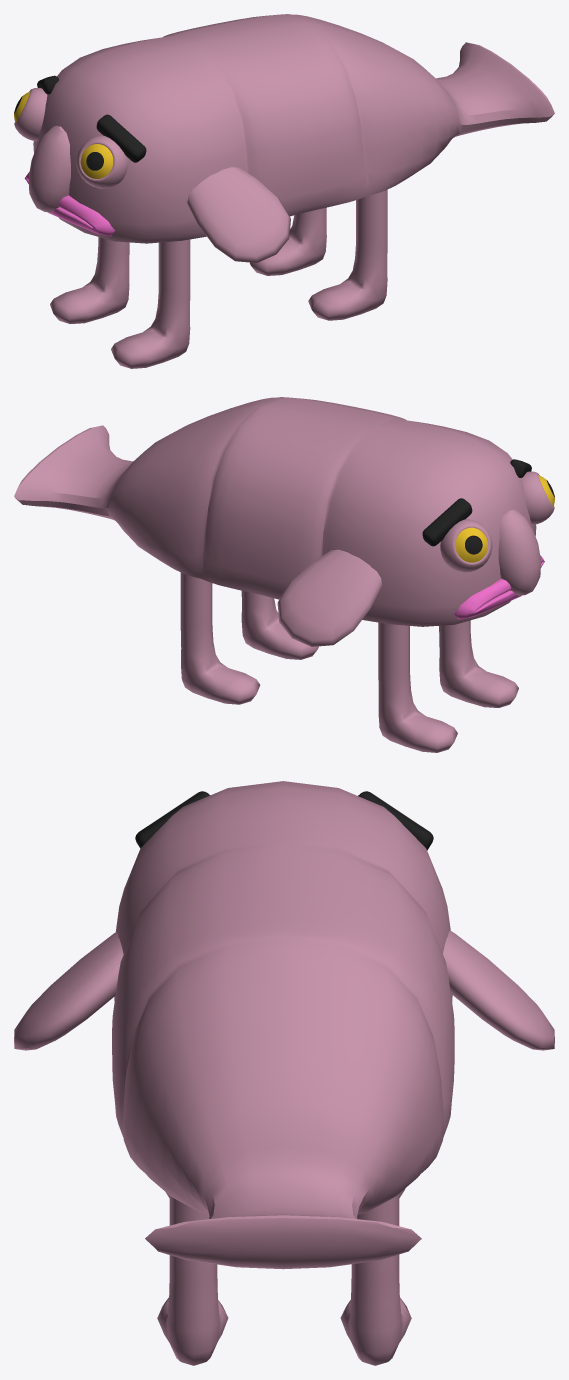
The model's file is Bolha.fbx.
3 views of the same model, one above another, from view 1: azimuth 30°, elevation 25°; view 2: azimuth 150°, elevation 25°; view 3: azimuth 270°, elevation 25° (orthographic). The views are drawn at different scales.
Parts seen in each view (by area): view 1: bolha, pernas_bolha, pernas2_bolha, barbatana_bolha, olhos_bolha, nariz, sobrancelha_bolha, boca.002; view 2: bolha, pernas_bolha, pernas2_bolha, barbatana_bolha, olhos_bolha, nariz, sobrancelha_bolha, boca.002; view 3: bolha, pernas2_bolha, barbatana_bolha, sobrancelha_bolha.
Part boxes in pixels (x1,y1,x2,y2): bolha: (33, 14, 554, 243); pernas_bolha: (50, 237, 190, 368); pernas2_bolha: (250, 189, 387, 320); barbatana_bolha: (187, 167, 290, 262); olhos_bolha: (14, 88, 128, 188); nariz: (29, 125, 70, 212); sobrancelha_bolha: (37, 75, 146, 162); boca.002: (24, 172, 115, 236); bolha: (14, 397, 536, 626); pernas_bolha: (378, 620, 518, 752); pernas2_bolha: (180, 572, 318, 704); barbatana_bolha: (277, 549, 382, 646); olhos_bolha: (440, 471, 554, 572); nariz: (498, 508, 540, 595); sobrancelha_bolha: (422, 459, 531, 546); boca.002: (454, 555, 544, 619); bolha: (112, 781, 454, 1269); pernas2_bolha: (157, 1194, 411, 1365); barbatana_bolha: (14, 930, 554, 1050); sobrancelha_bolha: (135, 791, 433, 850).
Bounding box in the file's own units: 372 × 205 × 241.
